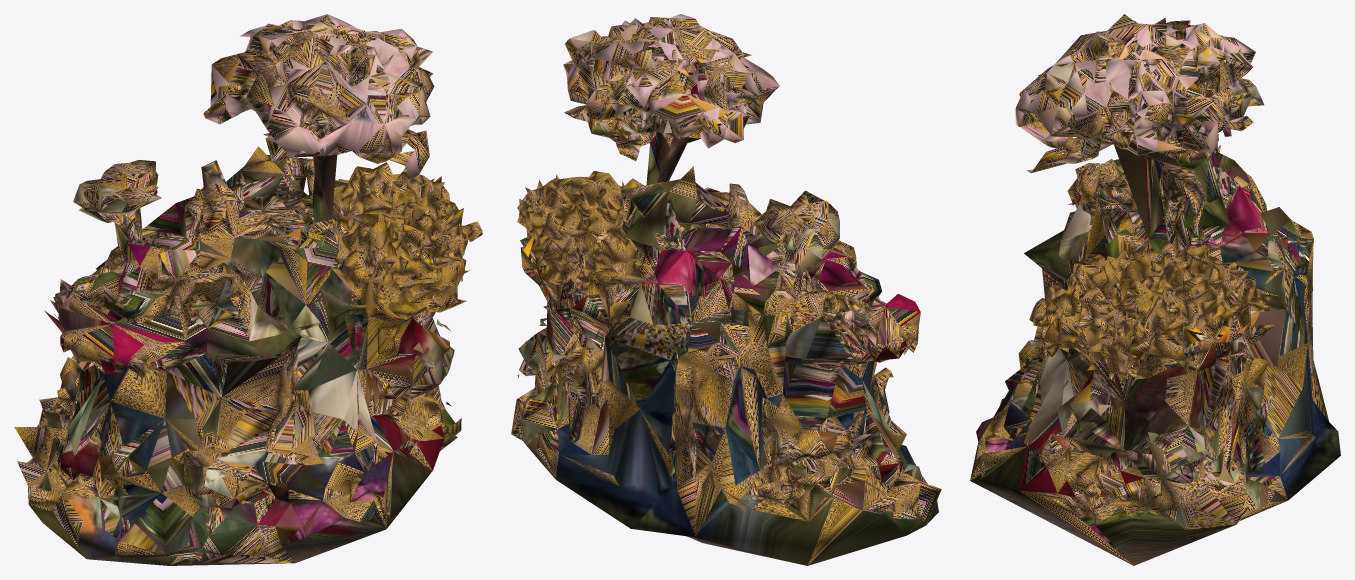
The model's file is Floating_Isle_of_Blos.glb.
3 views of the same model, side by side, from view 1: azimuth 30°, elevation 25°; view 2: azimuth 150°, elevation 25°; view 3: azimuth 270°, elevation 25° (orthographic). The views are drawn at different scales.
Visible parts, largest first — view 1: Floating_Isle_of_Blos; view 2: Floating_Isle_of_Blos; view 3: Floating_Isle_of_Blos.
Boxes of the visible parts, x1,y1,x2,y2 form: Floating_Isle_of_Blos: [14, 14, 482, 565]; Floating_Isle_of_Blos: [511, 14, 941, 565]; Floating_Isle_of_Blos: [970, 14, 1340, 565].
Bounding box in the file's own units: 1.53 × 1.8 × 1.09.
Materials: 1 (1 with a texture image).
